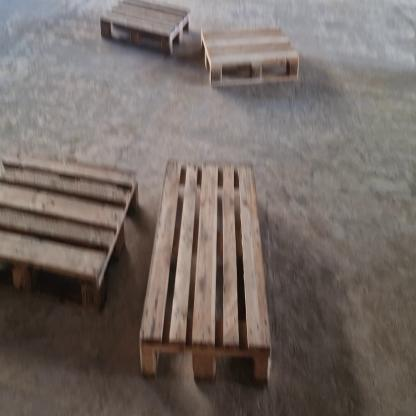BoxFace: (139, 157, 271, 385), (0, 152, 139, 313), (200, 24, 300, 86), (100, 0, 190, 59)
